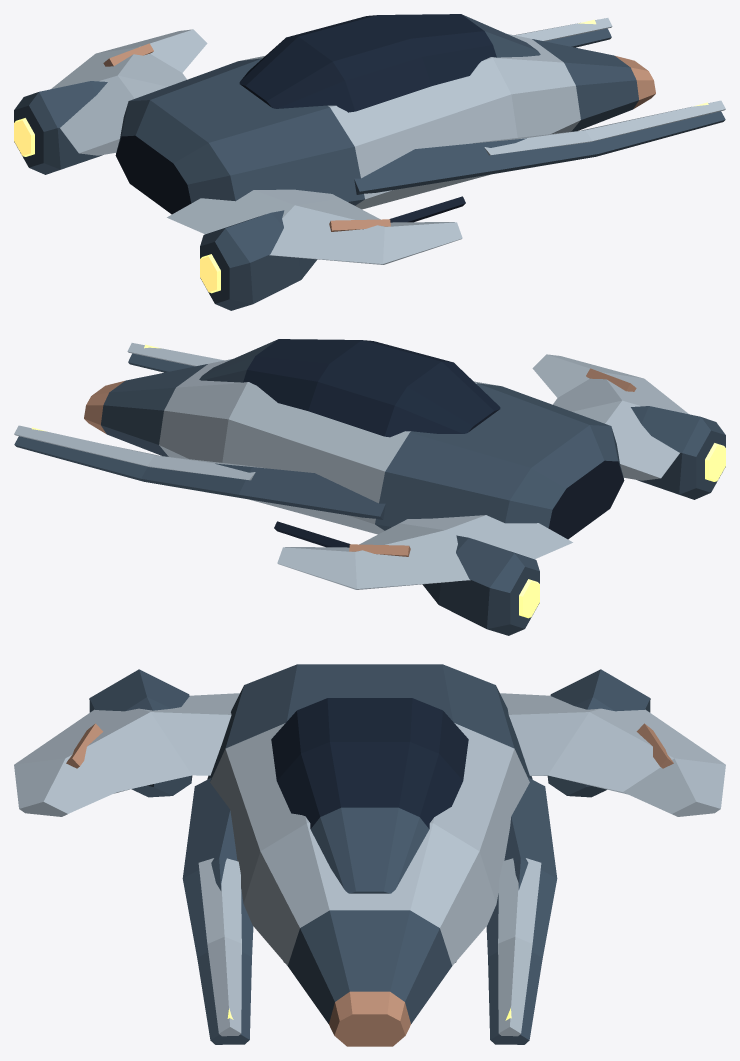
File: overhaul-service-skiff.glb
3 renders of one model, top to bottom at view 1: azimuth 30°, elevation 25°; view 2: azimuth 150°, elevation 25°; view 3: azimuth 270°, elevation 25°, orthographic. The views are drawn at different scales.
Visible parts, largest first — view 1: overhaul-service-skiff; view 2: overhaul-service-skiff; view 3: overhaul-service-skiff.
Part boxes in pixels (<box>): overhaul-service-skiff: <box>14,14,725,310</box>; overhaul-service-skiff: <box>14,339,725,635</box>; overhaul-service-skiff: <box>14,664,725,1046</box>.
Size of the model in its own units: 2.86 by 0.833 by 2.6.
